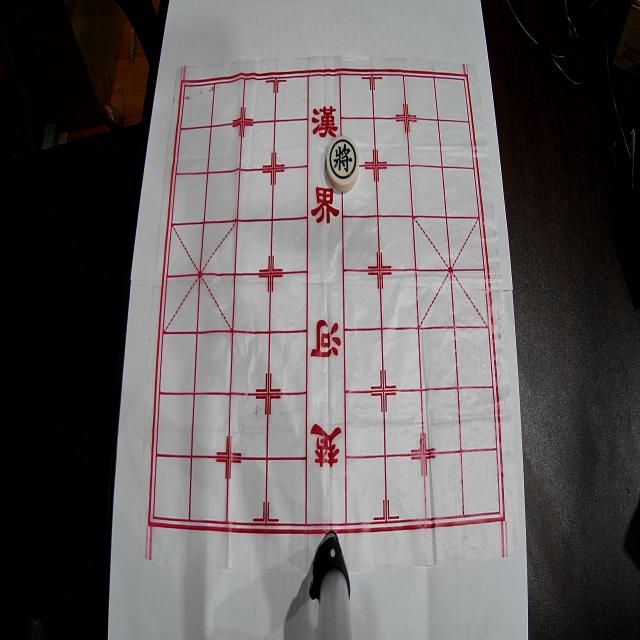black-general: (327, 136, 359, 192)
